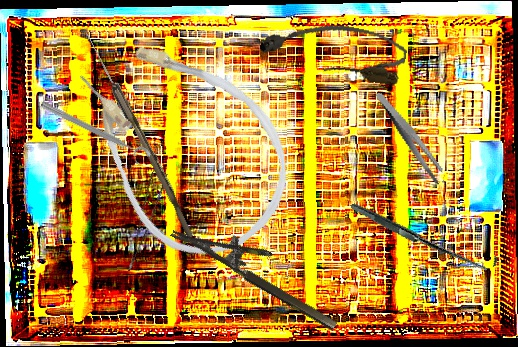Cannula: (45, 0, 321, 285), (257, 10, 410, 88)
Dressing Forceps: (374, 80, 448, 195)
Fixation Ring: (35, 98, 153, 169)
Hook Surgical: (350, 158, 500, 311)
Needle Holder: (170, 203, 351, 333)
Surgical Spoon: (80, 30, 199, 239)
Tissue Forceps: (111, 168, 173, 272)
